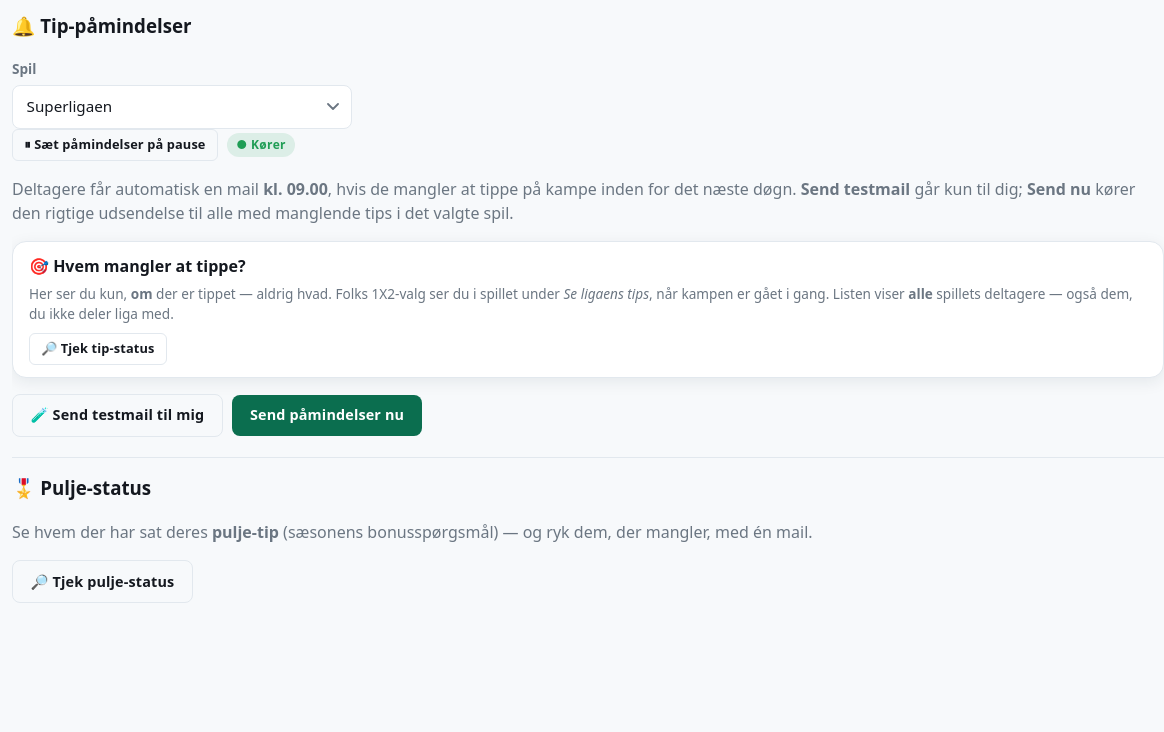
it: Send påmindelser nu — rapporten › melder antal sendt, når det lykkedes
Click the button "Send påmindelser nu" at (327, 415), box left=232, top=395, right=422, bottom=436
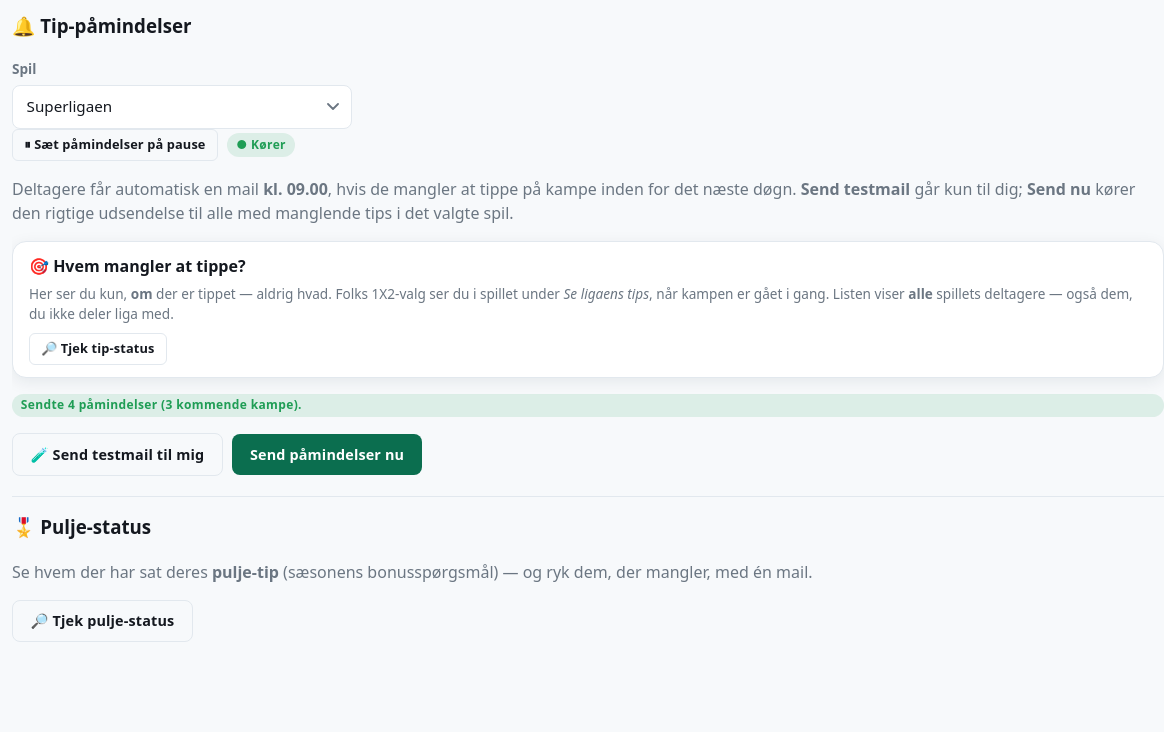
Now the text "Sendte 4 påmindelser (3 kommende kampe)." is shown, box left=12, top=394, right=1163, bottom=417
